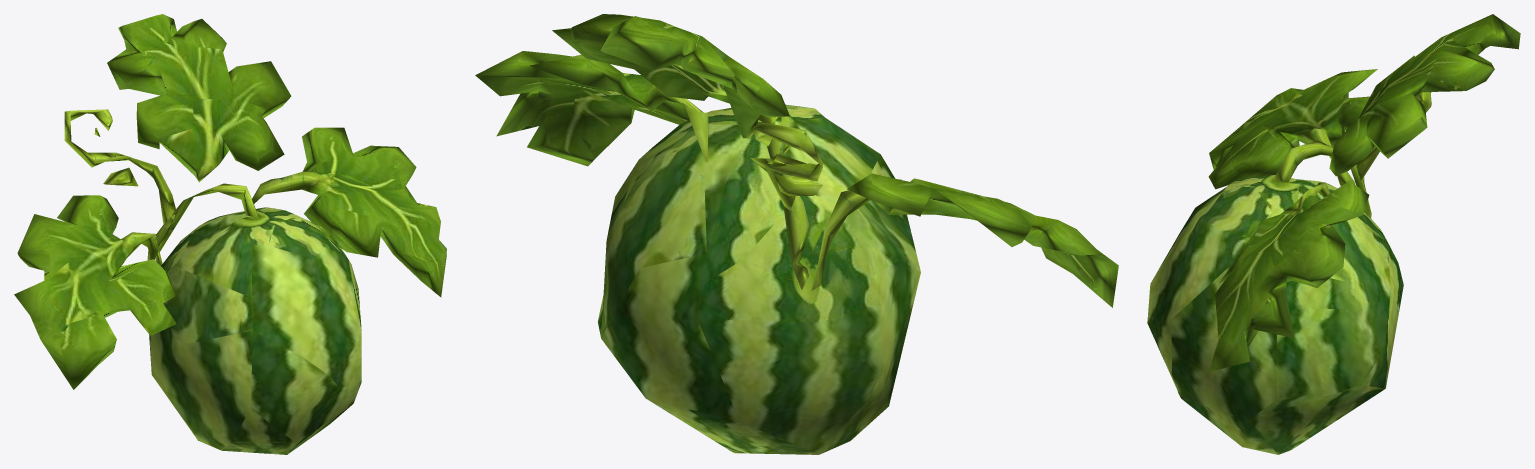
File: crop_watermelon.glb
3 renders of one model, left to right at view 1: azimuth 30°, elevation 25°; view 2: azimuth 150°, elevation 25°; view 3: azimuth 270°, elevation 25°, orthographic. The views are drawn at different scales.
Size of the model in its own units: 0.9871 by 0.8513 by 0.6981.
Materials: 1 (1 with a texture image).
